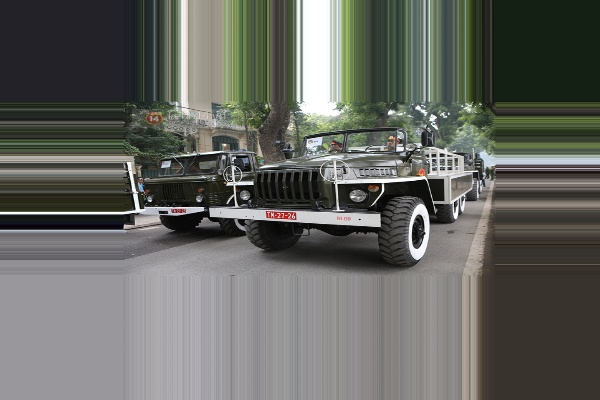plate: (265, 209, 298, 221), (168, 206, 188, 215)
